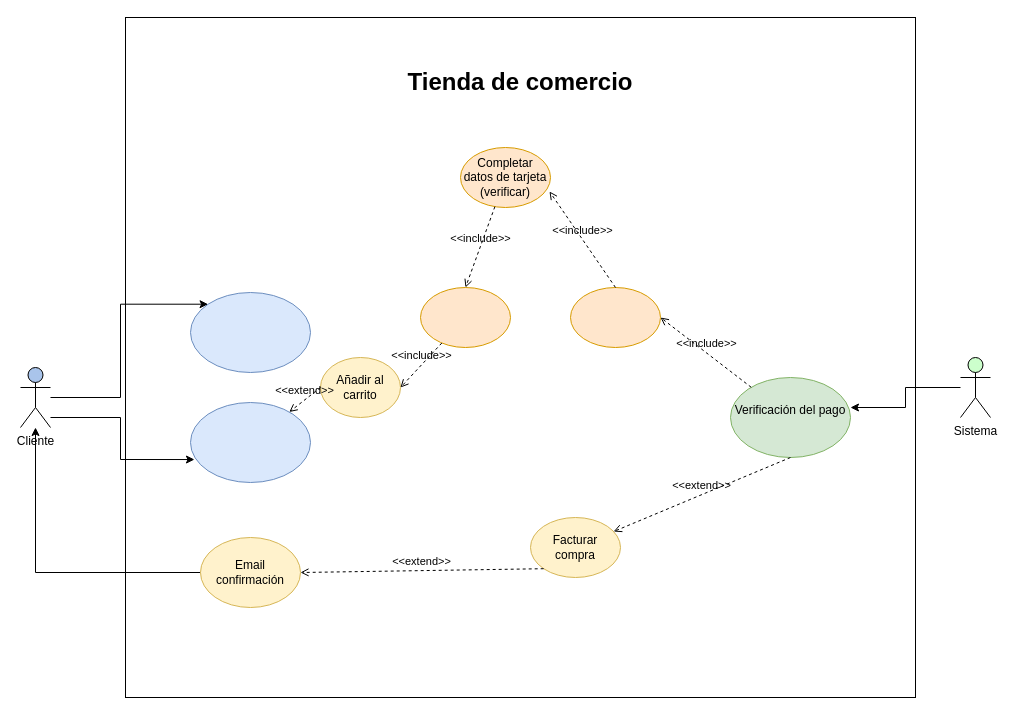
Some shapes in this 1014 by 715 pixel diagram are drawn without their labels. Each missing label, with the centre of its shape:
"Navegar por el catálogo" goes at pixel 250 332.
"Registrar dirección de envío" goes at pixel 465 317.
"Seleccionar producto" goes at pixel 250 442.
"Verificar tarjeta de crédito" goes at pixel 615 317.
